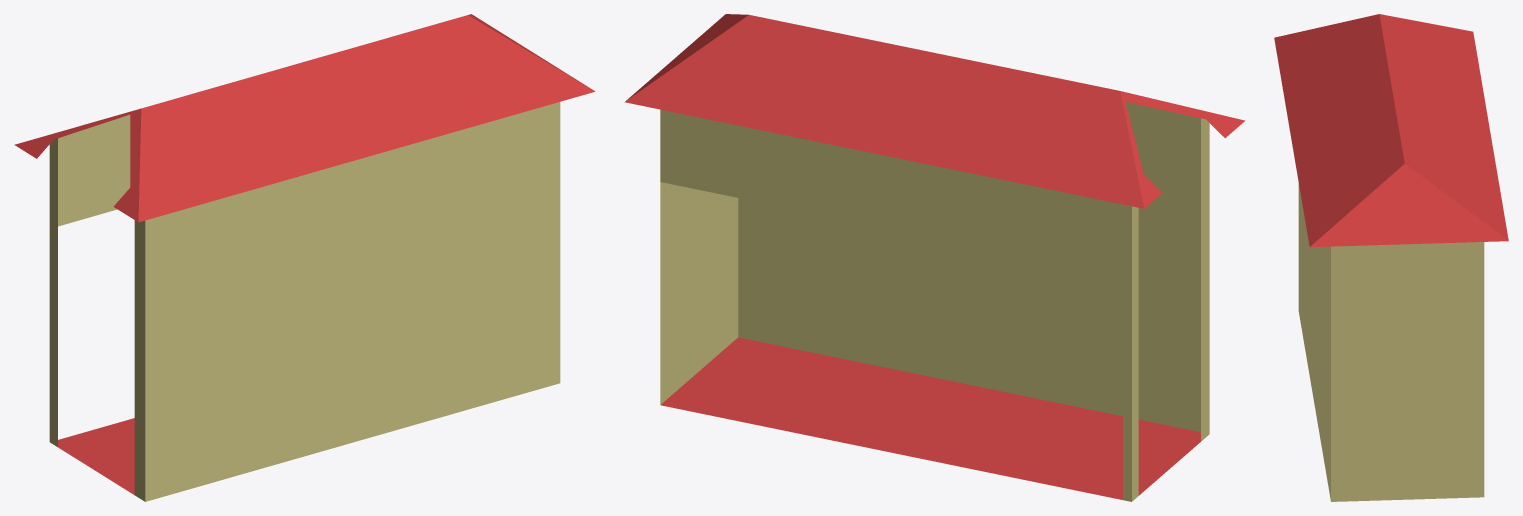
3 views of the same model, side by side, from view 1: azimuth 30°, elevation 25°; view 2: azimuth 150°, elevation 25°; view 3: azimuth 270°, elevation 25° (orthographic). The views are drawn at different scales.
Visible parts, largest first — view 1: group_5, group_3, group_6; view 2: group_5, group_3, group_6; view 3: group_5, group_3.
Boxes of the visible parts, left/top/right/bottom form: group_5: left=49, top=102, right=560, bottom=501; group_3: left=15, top=14, right=595, bottom=222; group_6: left=58, top=418, right=134, bottom=494; group_5: left=660, top=102, right=1209, bottom=501; group_3: left=624, top=14, right=1244, bottom=208; group_6: left=660, top=337, right=1200, bottom=499; group_5: left=1298, top=183, right=1484, bottom=501; group_3: left=1274, top=14, right=1508, bottom=247.
Bounding box in the file's own units: 16.58 × 7.63 × 11.32.
